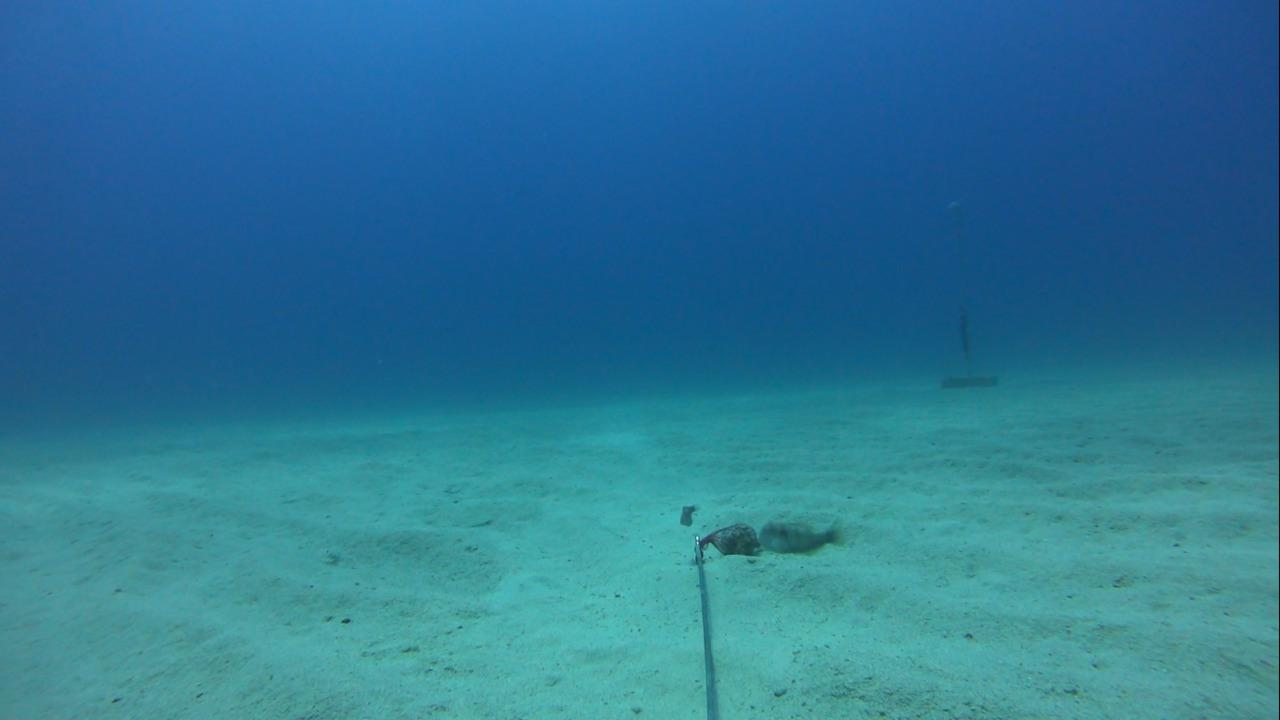raor: (756, 508, 855, 564), (676, 492, 706, 540)
